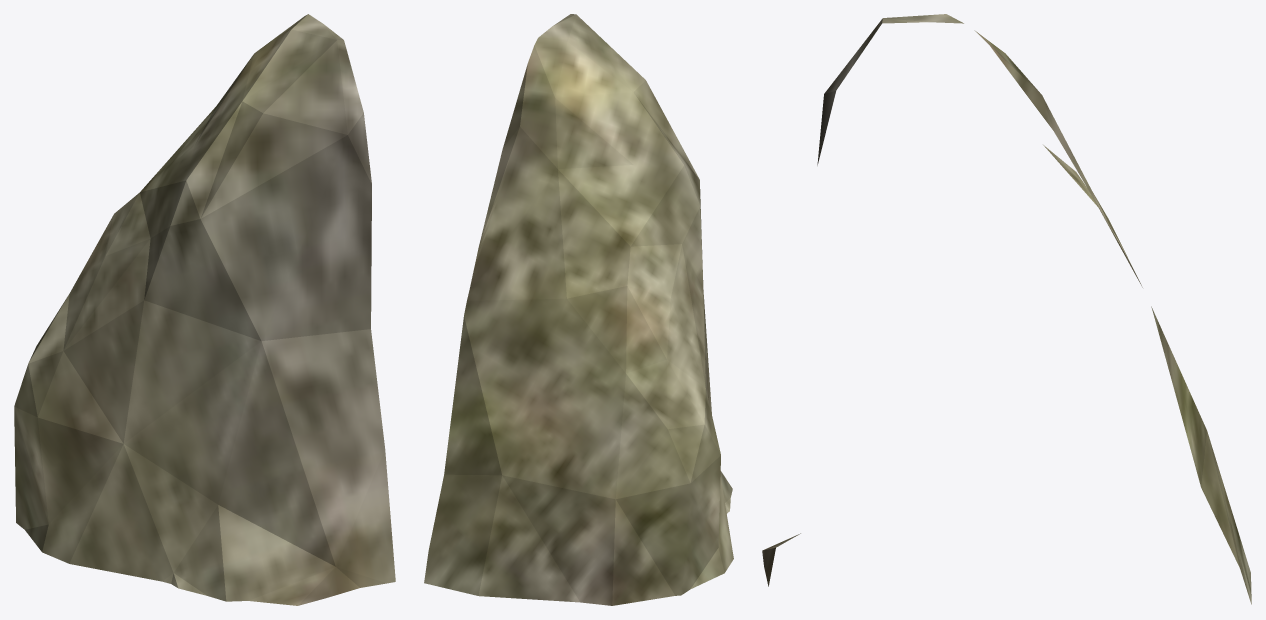
3 renders of one model, left to right at view 1: azimuth 30°, elevation 25°; view 2: azimuth 150°, elevation 25°; view 3: azimuth 270°, elevation 25°, orthographic. The views are drawn at different scales.
Size of the model in its own units: 0.6152 by 1.26 by 0.9595.
1 material, 1 textured.
